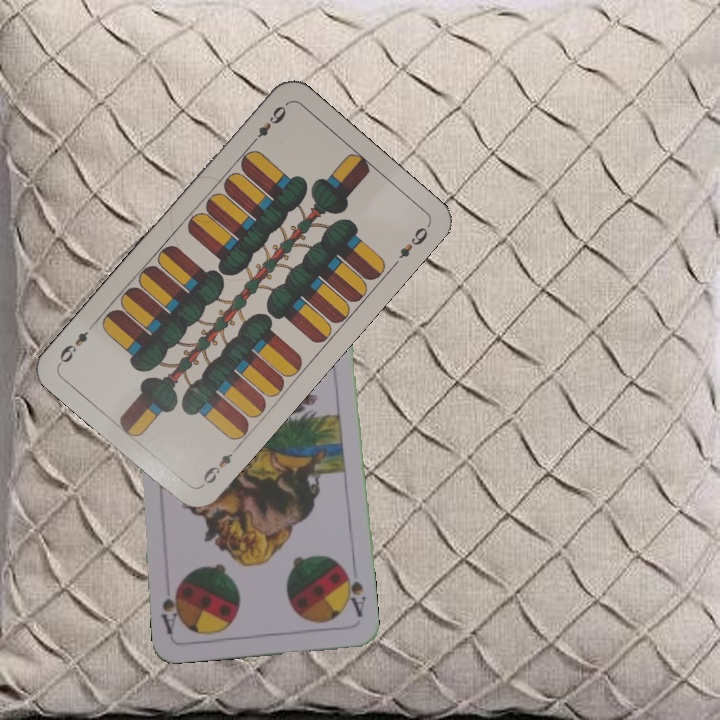E9: (246, 100, 290, 148), (199, 449, 235, 487)
SA: (339, 565, 369, 620)
